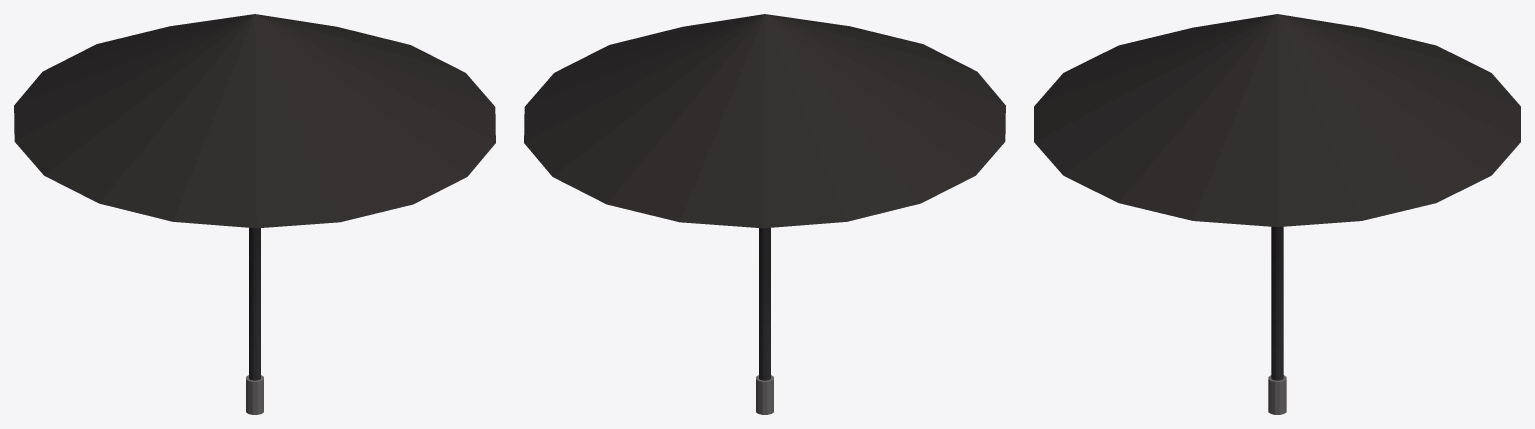
Rendered from Umbrella.gltf.
The picture shows the model from 3 angles, left to right: view 1: azimuth 30°, elevation 25°; view 2: azimuth 150°, elevation 25°; view 3: azimuth 270°, elevation 25°; orthographic projection.
Parts seen in each view (by area): view 1: Canopy, Shaft, Holder; view 2: Canopy, Shaft, Holder; view 3: Canopy, Shaft, Holder.
Part boxes in pixels (x1,y1,x2,y2): Canopy: (14, 14, 495, 228); Shaft: (249, 228, 260, 380); Holder: (246, 375, 263, 414); Canopy: (524, 14, 1005, 228); Shaft: (759, 228, 770, 380); Holder: (756, 375, 773, 414); Canopy: (1034, 14, 1520, 227); Shaft: (1271, 226, 1283, 380); Holder: (1268, 375, 1286, 414).
Size of the model in its own units: 2.5 by 2.25 by 2.5.
2 materials, 2 textured.
